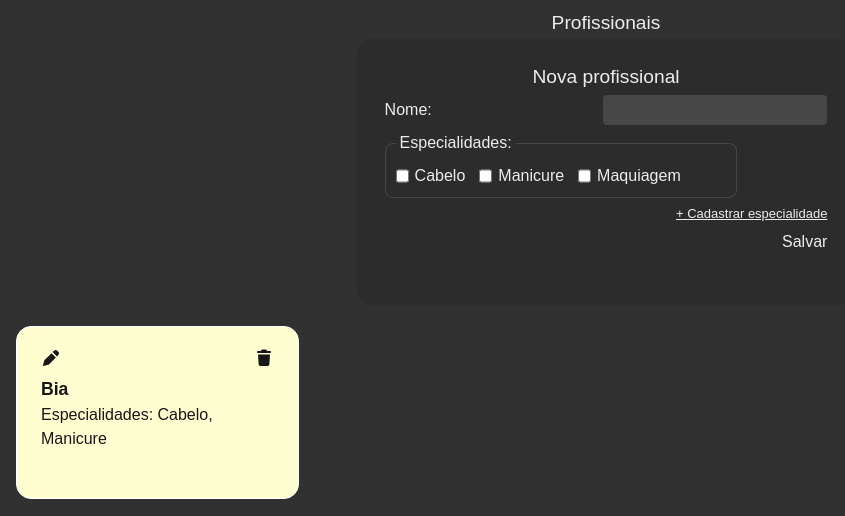
Test: Profissionais: várias especialidades › lista as especialidades de cada profissional e preenche o formulário ao editar
Check: the heading "Especialidades: Cabelo, Manicure" is shown, box [41,406,213,447]
Click the button named "Editar Bia" at (51, 359), box [41,347,61,371]
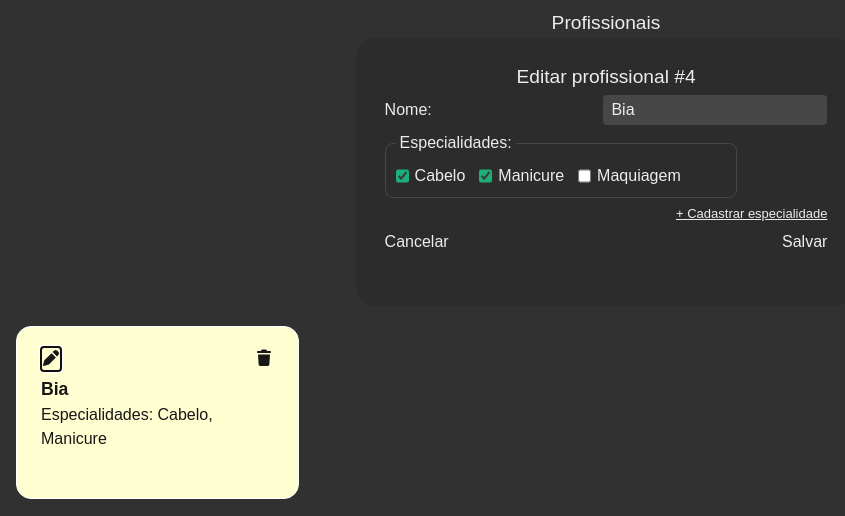
Check: the checkbox labelled "Maquiagem" is not checked, box [578,161,591,191]
Check: the checkbox labelled "Cabelo" is checked, box [396,161,409,191]
Check: the checkbox labelled "Manicure" is checked, box [479,161,492,191]
